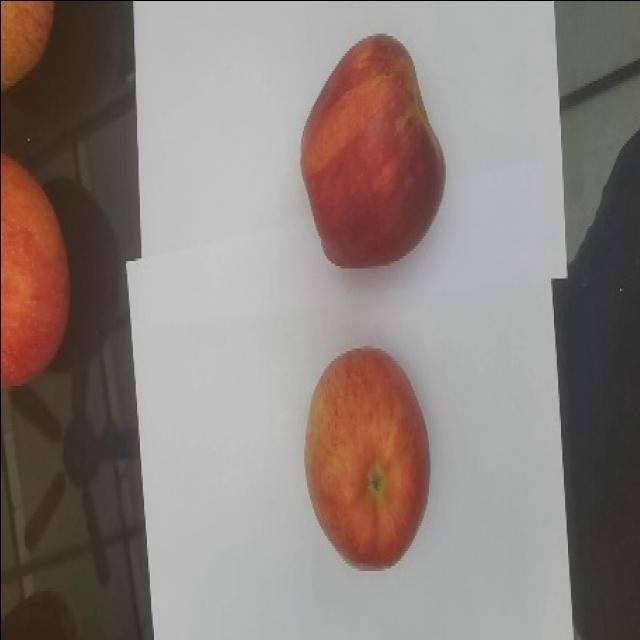Apple: (299, 32, 446, 269), (303, 345, 430, 571), (0, 151, 71, 389), (0, 0, 55, 92)
